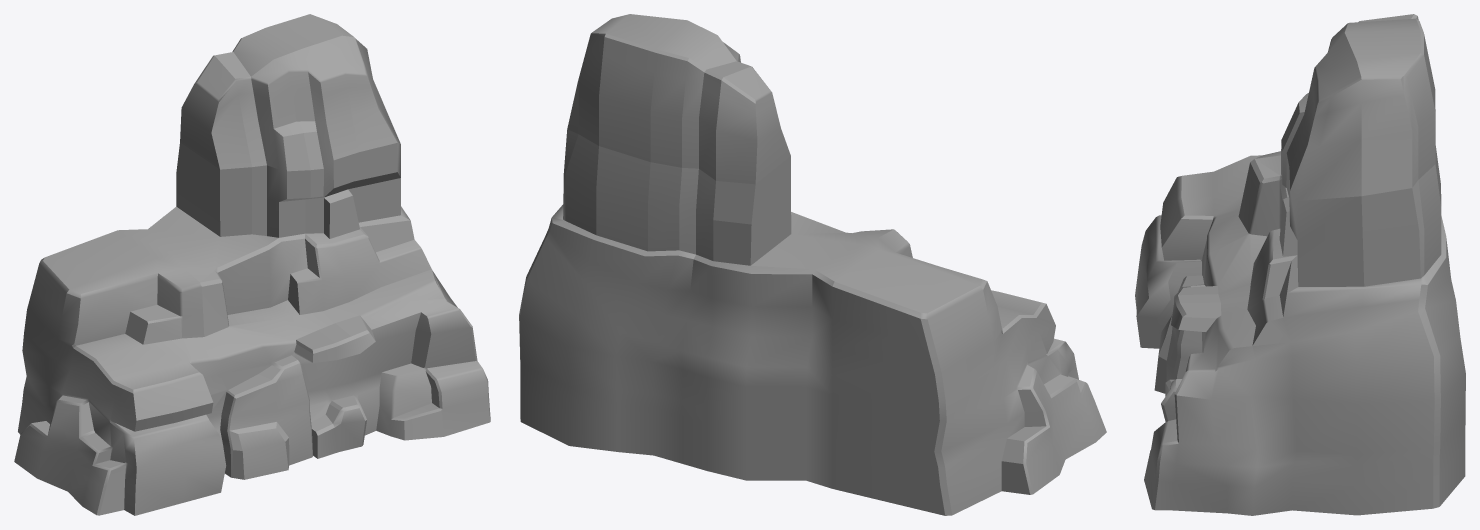
Rendered from cliff.fbx.
The picture shows the model from 3 angles, left to right: view 1: azimuth 30°, elevation 25°; view 2: azimuth 150°, elevation 25°; view 3: azimuth 270°, elevation 25°; orthographic projection. The views are drawn at different scales.
Parts seen in each view (by area): view 1: Cliff; view 2: Cliff; view 3: Cliff.
Part boxes in pixels (x1=…): Cliff: x1=14, y1=14, x2=490, y2=515; Cliff: x1=519, y1=14, x2=1106, y2=515; Cliff: x1=1135, y1=14, x2=1465, y2=515.
Size of the model in its own units: 7612 by 6068 by 4378.
